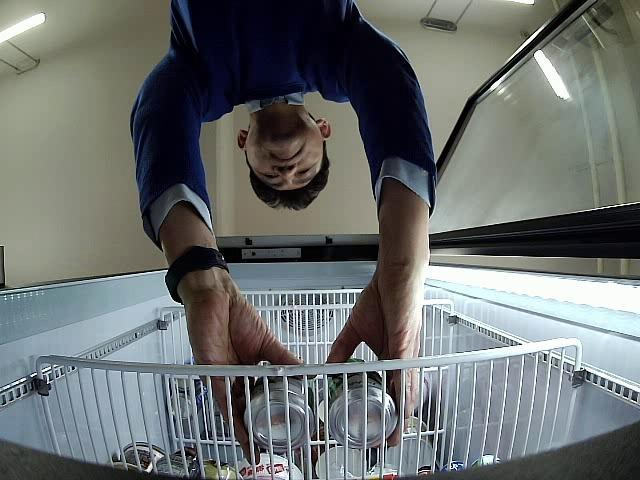12_chilsungCider: (329, 359, 398, 449), (244, 375, 318, 455)
